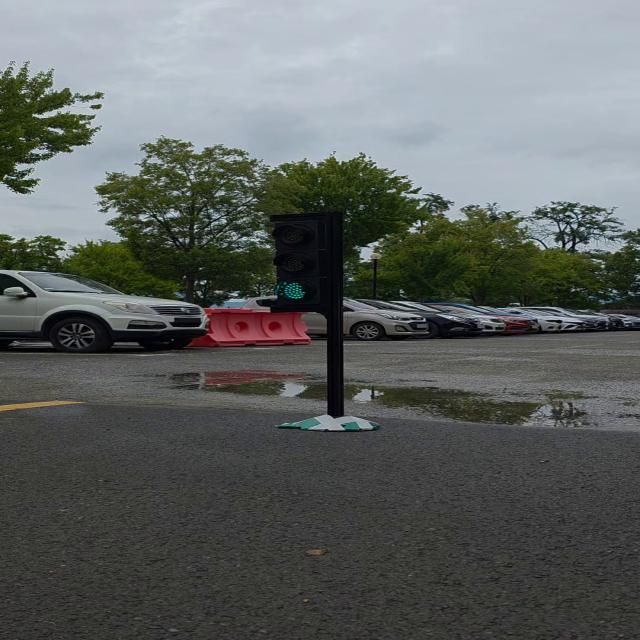green: (273, 214, 339, 312)
